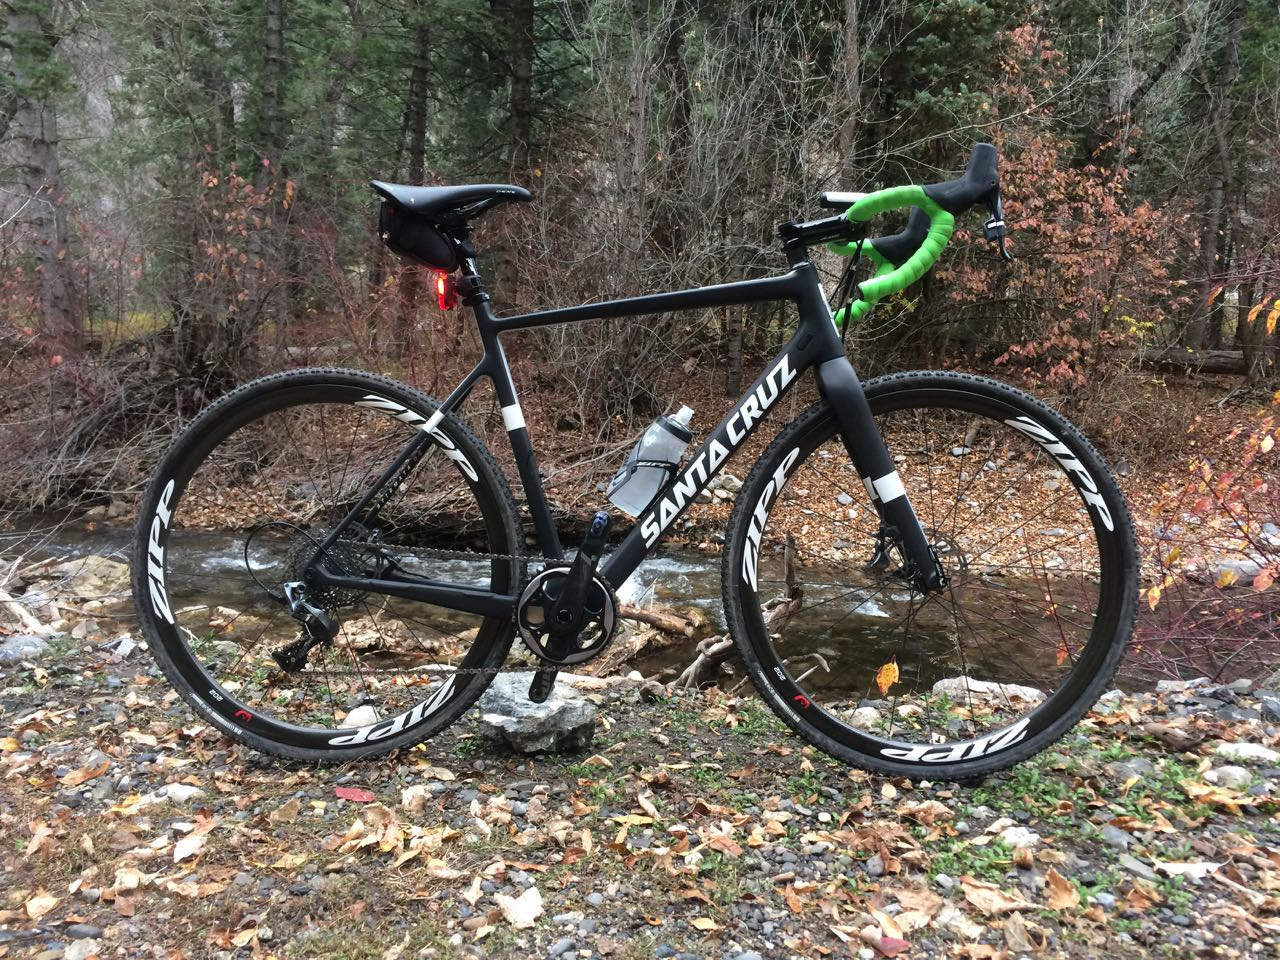bicycle: (132, 142, 1138, 783)
